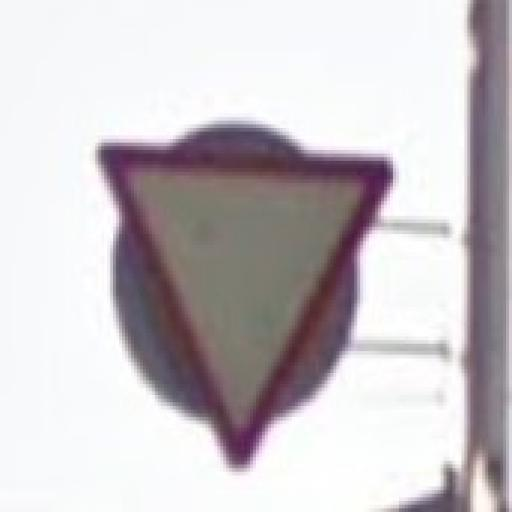traffic_sign: (96, 140, 397, 473)
